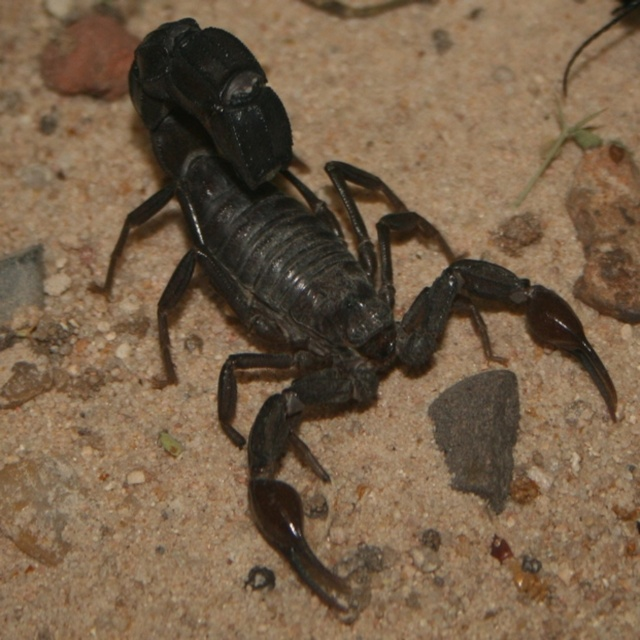Scorpion: (86, 17, 616, 612)
